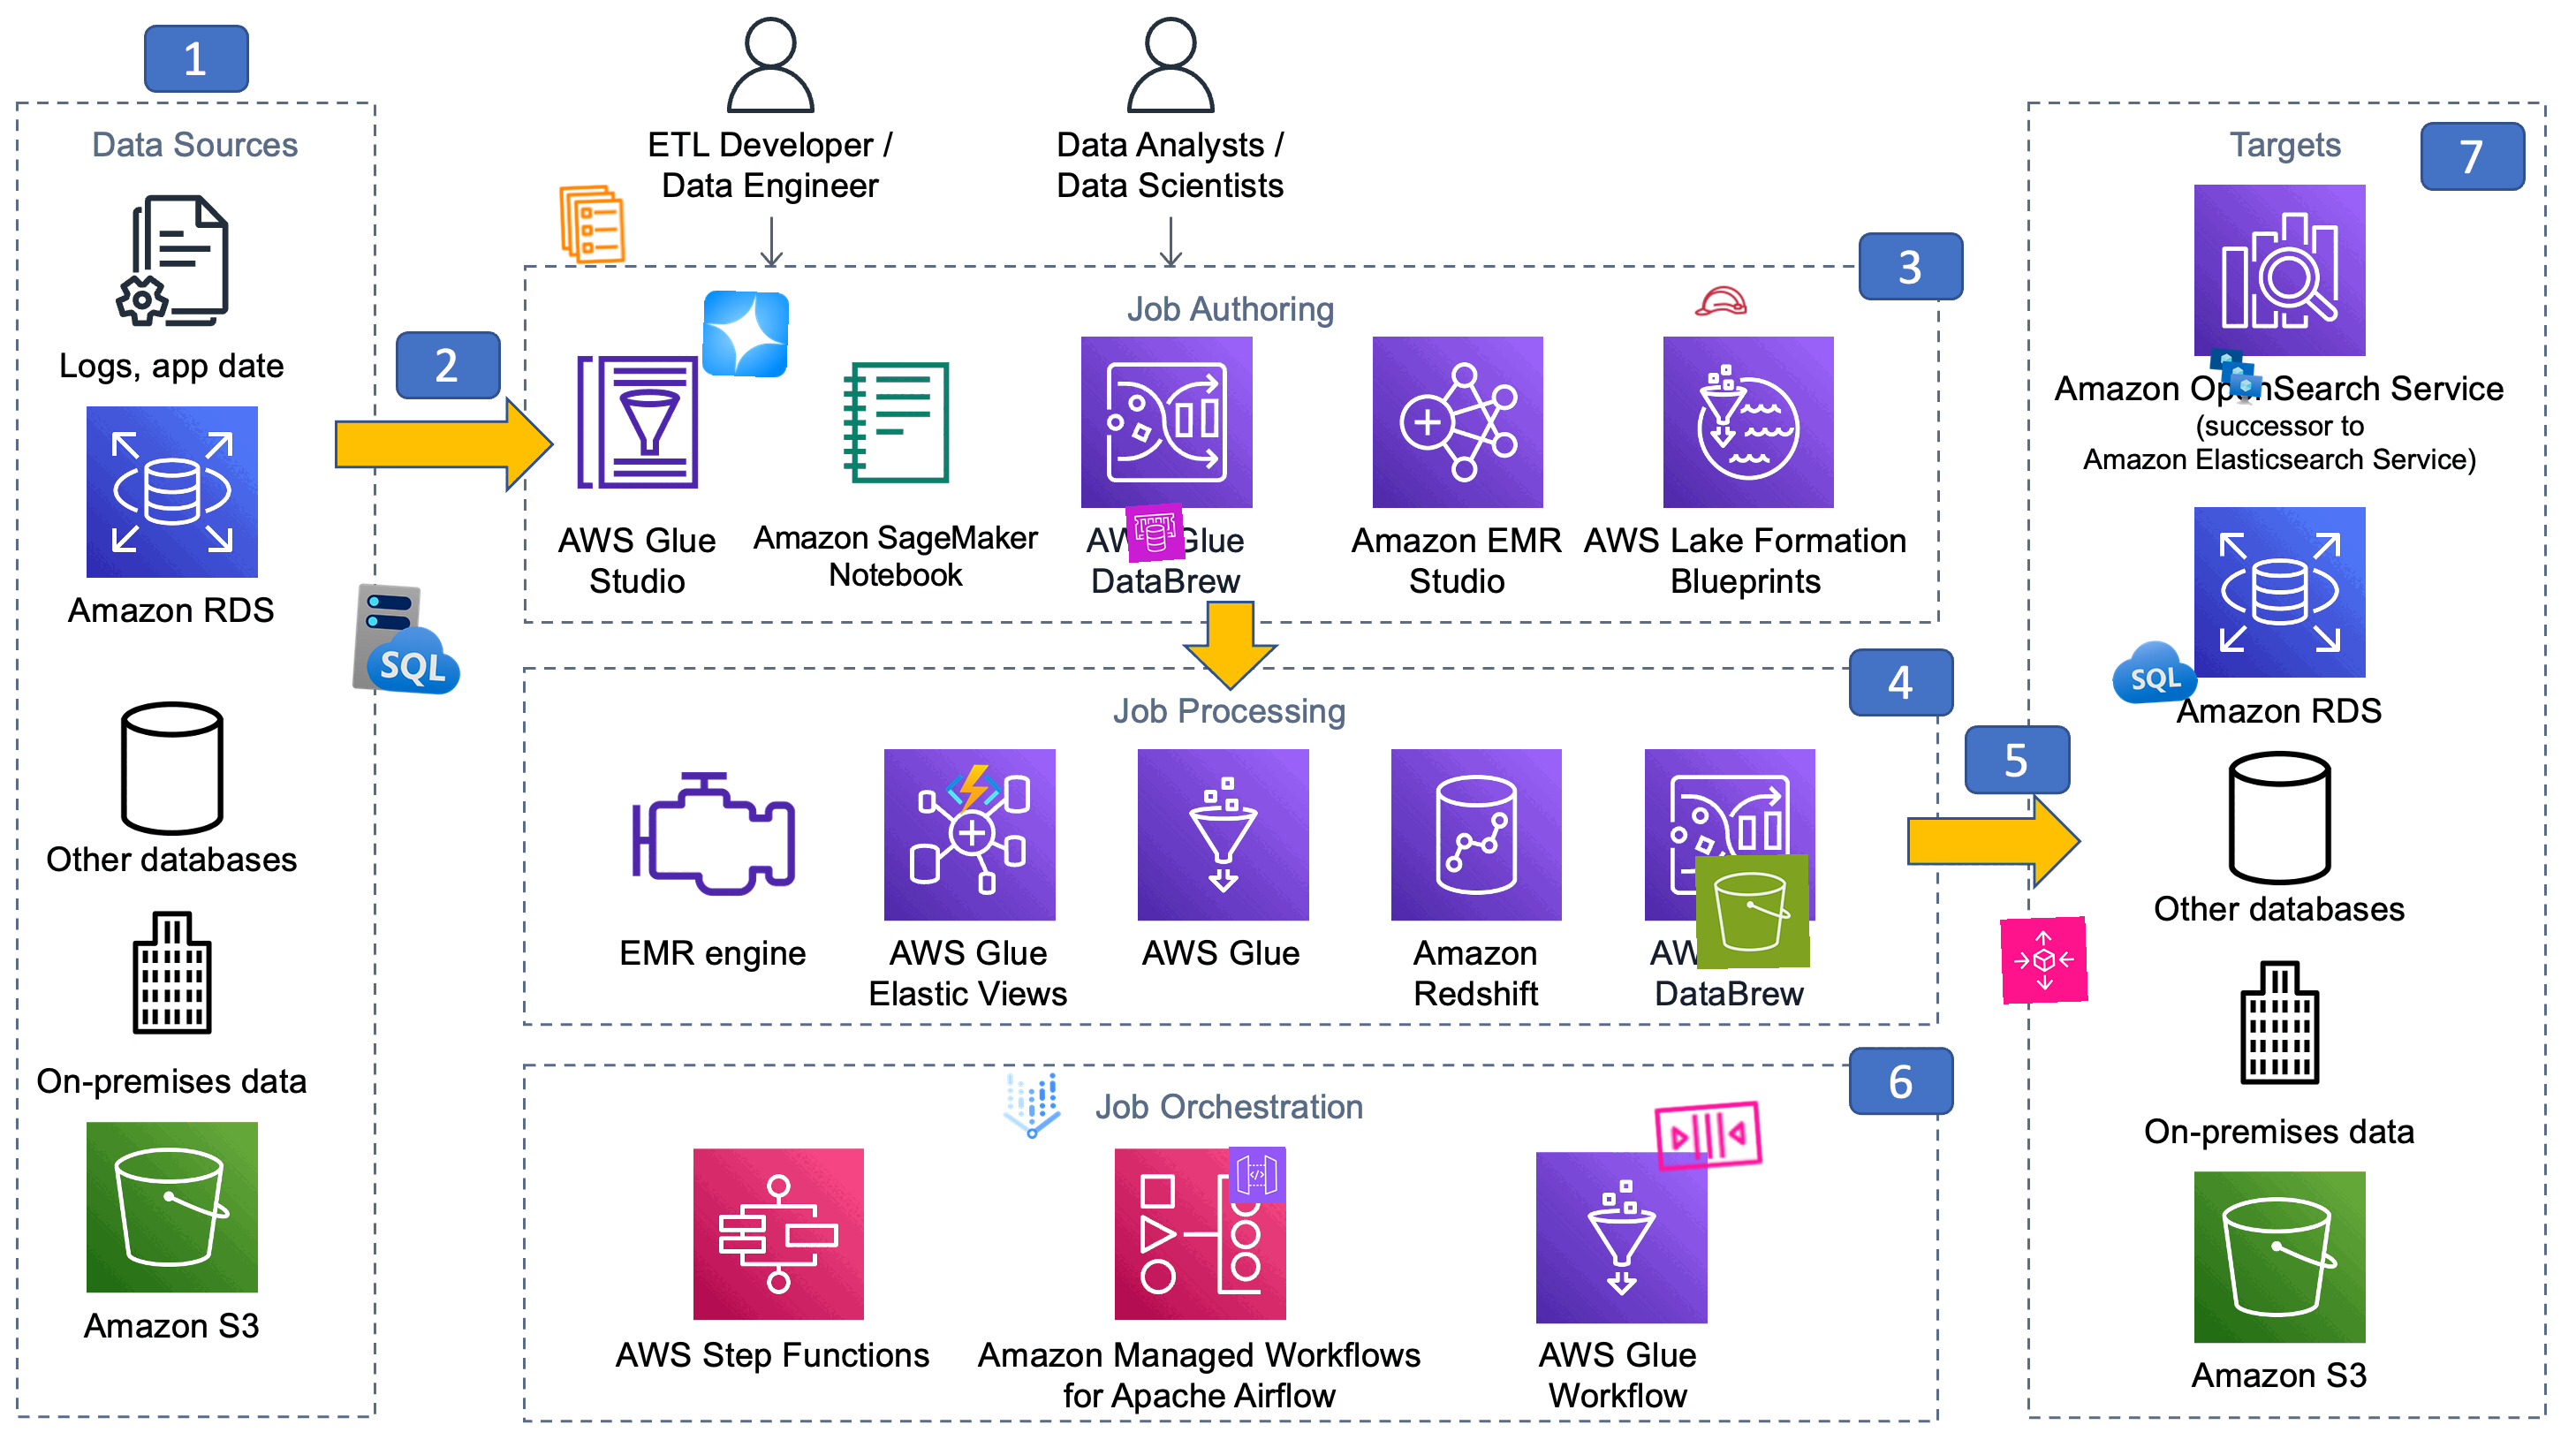aws_amazon_api_gateway: (1228, 1146, 1286, 1205)
aws_amazon_elasticache: (1125, 502, 1187, 564)
aws_amazon_simple_storage_service: (1695, 853, 1812, 969)
aws_auto_scaling: (1999, 916, 2088, 1005)
aws_elastic_container_service_service: (548, 180, 637, 269)
aws_identity_access_management_role: (1691, 272, 1750, 331)
aws_simple_queue_service_queue: (1647, 1074, 1769, 1196)
azure_function_apps: (945, 761, 1003, 819)
azure_openai: (701, 290, 789, 379)
azure_sql: (2109, 628, 2199, 718)
azure_sql_managed_instance: (349, 578, 471, 701)
azure_vm_scale_sets: (2204, 345, 2266, 407)
gcp_vertex_ai: (989, 1063, 1076, 1150)
